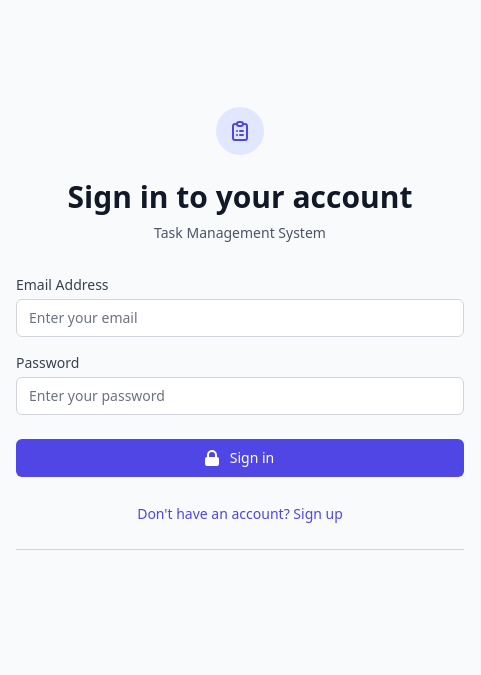
Test case: Login › handles signup error
// Switch to signup mode
Click the button "Don't have an account? Sign up".
click(240, 514)  # box left=137, top=504, right=343, bottom=524
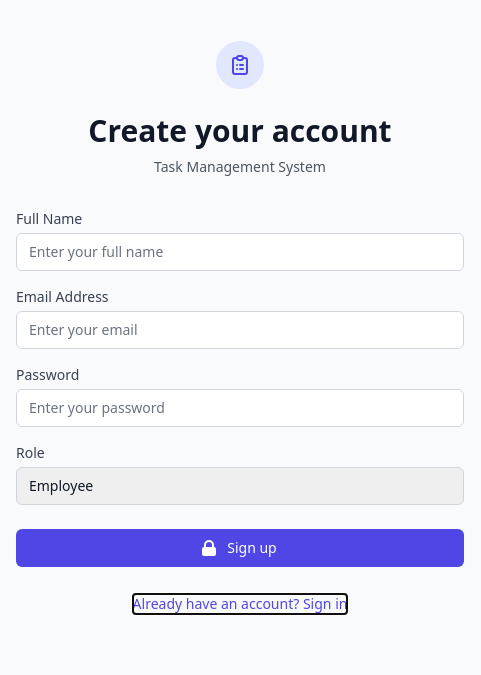
// Fill out form
Type "Test User" into the field labelled "Full Name".
click(240, 252); type("Test User")  # box left=16, top=233, right=464, bottom=271
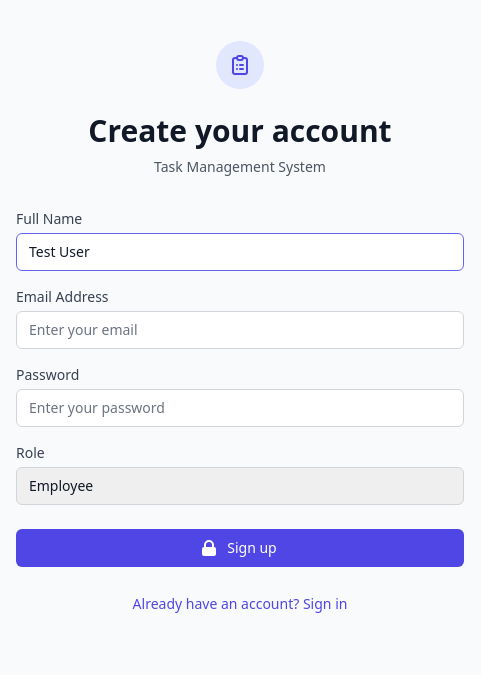
Type "existing@example.com" into the field labelled "Email Address".
click(240, 330); type("existing@example.com")  # box left=16, top=311, right=464, bottom=349
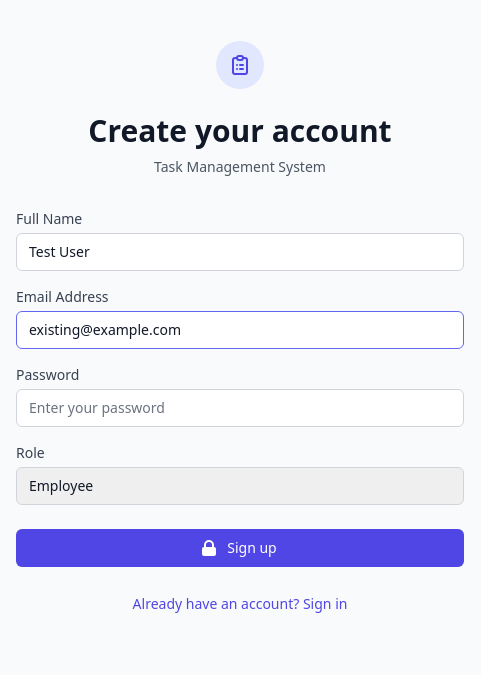
Type "password123" into the password field labelled "Password".
click(240, 408); type("password123")  # box left=16, top=389, right=464, bottom=427
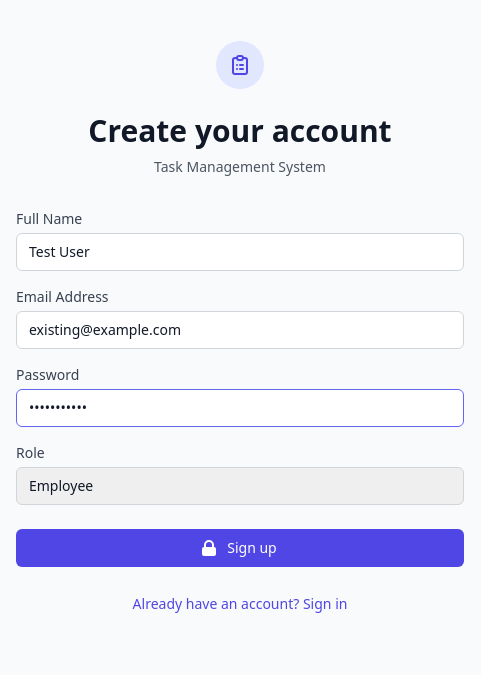
Click the button "Sign up".
click(240, 548)  # box left=16, top=529, right=464, bottom=567
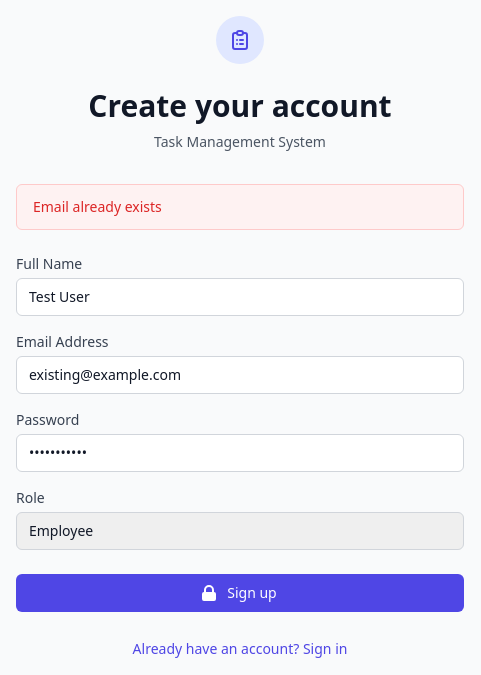
Result: the text "Email already exists" is shown at left=16, top=184, right=464, bottom=230
